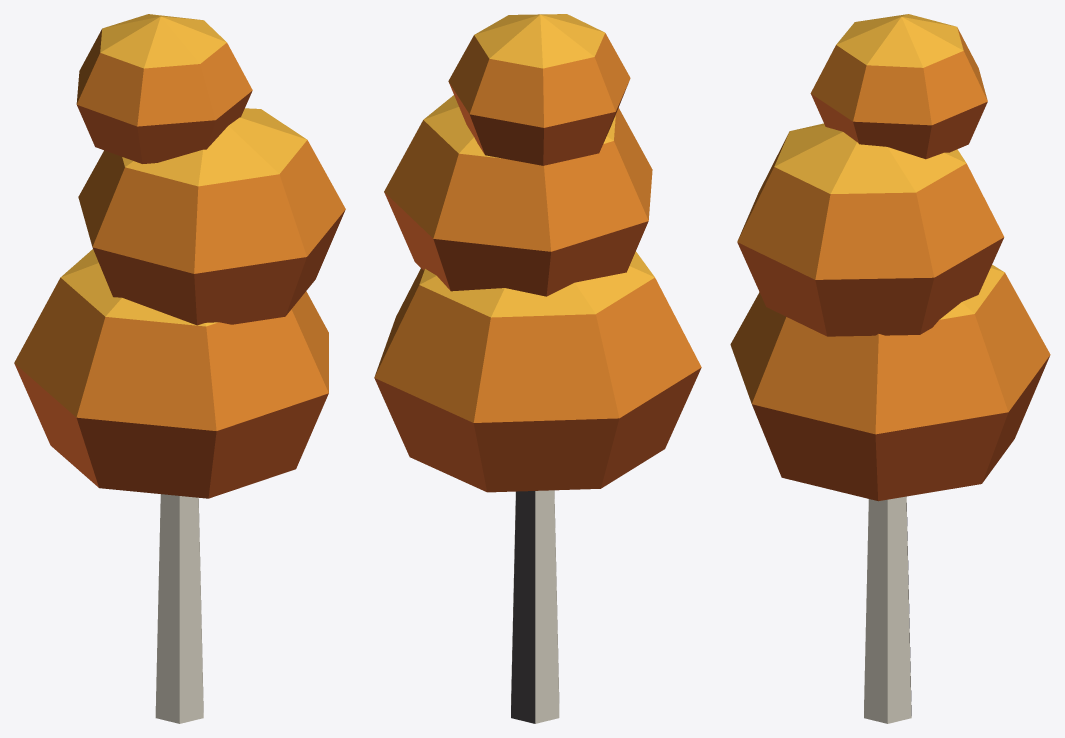
File: tree_default_fall.glb
The picture shows the model from 3 angles, left to right: view 1: azimuth 30°, elevation 25°; view 2: azimuth 150°, elevation 25°; view 3: azimuth 270°, elevation 25°; orthographic projection. The views are drawn at different scales.
Visible parts, largest first — view 1: tree_default_fall; view 2: tree_default_fall; view 3: tree_default_fall.
Part boxes in pixels (<box>): tree_default_fall: <box>14,14,345,723</box>; tree_default_fall: <box>374,14,701,723</box>; tree_default_fall: <box>730,14,1050,723</box>.
Bounding box in the file's own units: 0.6941 × 1.66 × 0.7.
1 material, 1 textured.
